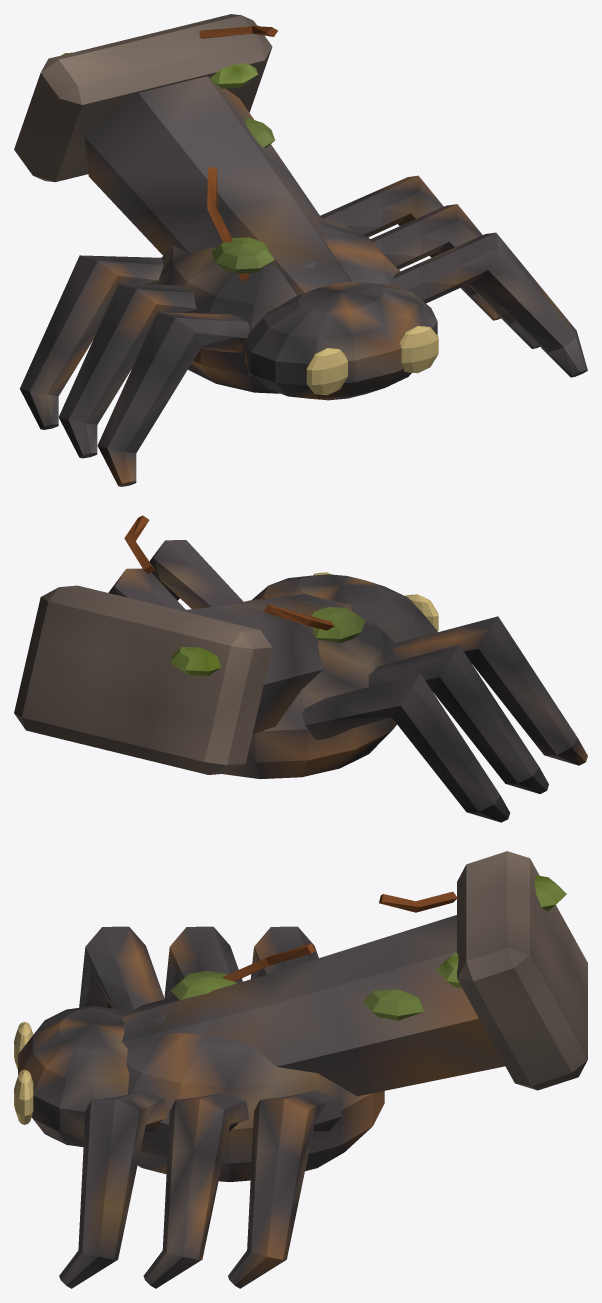
File: nail_beetle.fbx
3 renders of one model, top to bottom at view 1: azimuth 30°, elevation 25°; view 2: azimuth 150°, elevation 25°; view 3: azimuth 270°, elevation 25°, orthographic. The views are drawn at different scales.
Parts seen in each view (by area): view 1: nail_beetle; view 2: nail_beetle; view 3: nail_beetle.
Part boxes in pixels (x1,y1,x2,y2): nail_beetle: [14, 14, 587, 486]; nail_beetle: [14, 515, 587, 822]; nail_beetle: [14, 851, 587, 1288].
Size of the model in its own units: 5.6 by 3.2 by 5.4.
